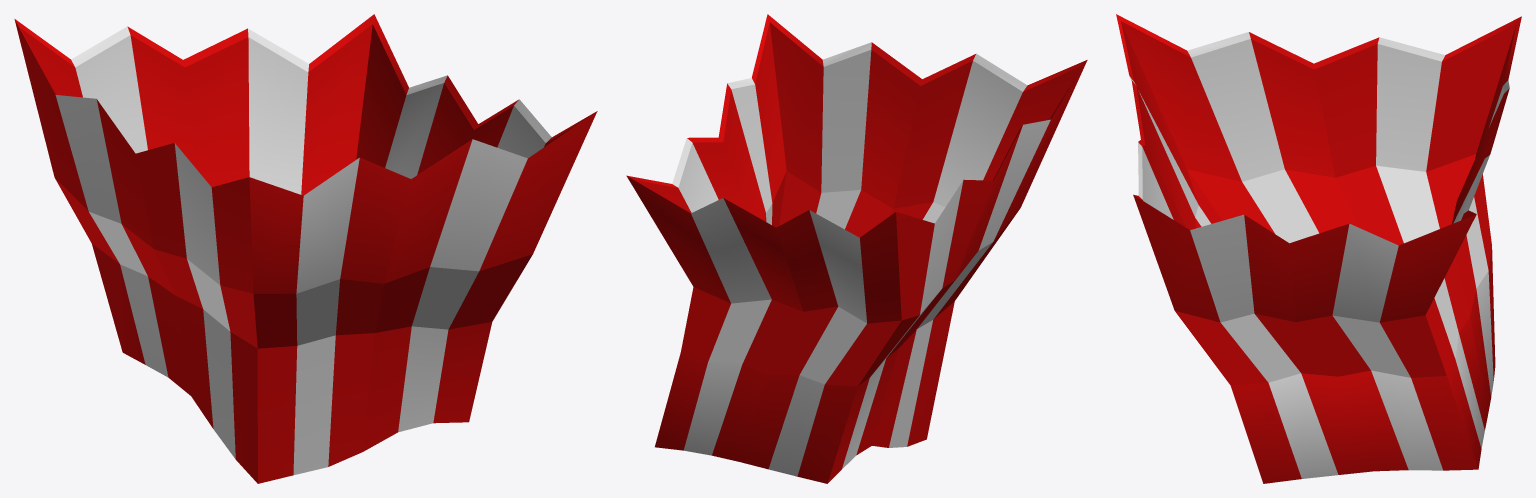
File: WW_PopCornBoxCrushed_Prop_02.fbx
3 renders of one model, left to right at view 1: azimuth 30°, elevation 25°; view 2: azimuth 150°, elevation 25°; view 3: azimuth 270°, elevation 25°, orthographic. The views are drawn at different scales.
Parts seen in each view (by area): view 1: WW_PopCornBoxCrushed_Prop_02; view 2: WW_PopCornBoxCrushed_Prop_02; view 3: WW_PopCornBoxCrushed_Prop_02.
Boxes of the visible parts, x1=… form: WW_PopCornBoxCrushed_Prop_02: x1=14, y1=14, x2=597, y2=483; WW_PopCornBoxCrushed_Prop_02: x1=626, y1=14, x2=1087, y2=483; WW_PopCornBoxCrushed_Prop_02: x1=1116, y1=14, x2=1521, y2=483.
Size of the model in its own units: 18.86 by 19.41 by 20.26.
